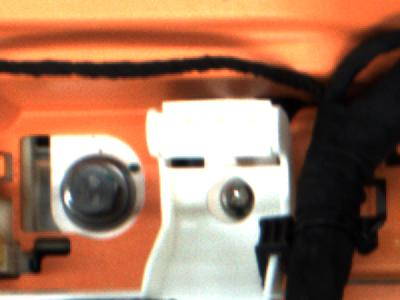nut_b: (57, 155, 139, 235)
